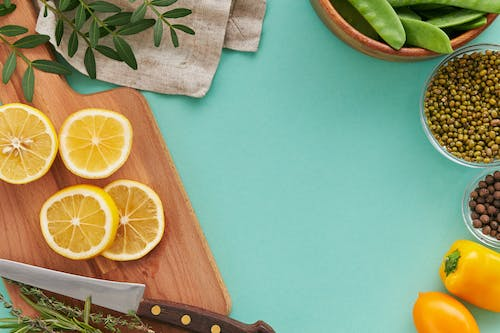knife: (0, 257, 276, 333)
